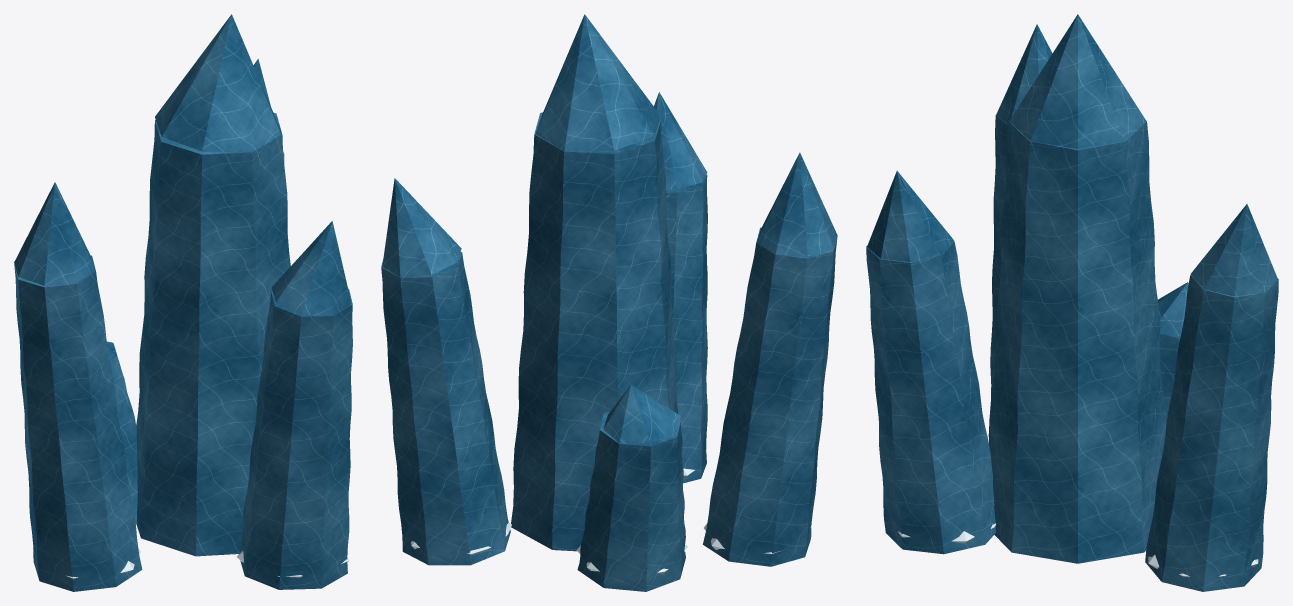
The model's file is SecondRoom_IceSpire.fbx.
3 renders of one model, left to right at view 1: azimuth 30°, elevation 25°; view 2: azimuth 150°, elevation 25°; view 3: azimuth 270°, elevation 25°, orthographic. The views are drawn at different scales.
Parts seen in each view (by area): view 1: WO_SecondRoom_IceSpire_LOD0; view 2: WO_SecondRoom_IceSpire_LOD0; view 3: WO_SecondRoom_IceSpire_LOD0.
Part boxes in pixels (box(x1,y1,x2,y2)): WO_SecondRoom_IceSpire_LOD0: box(14, 14, 352, 591); WO_SecondRoom_IceSpire_LOD0: box(381, 14, 837, 591); WO_SecondRoom_IceSpire_LOD0: box(866, 14, 1278, 591).
Size of what is drawn, in the model's own units: 4.41 by 6 by 4.29.
